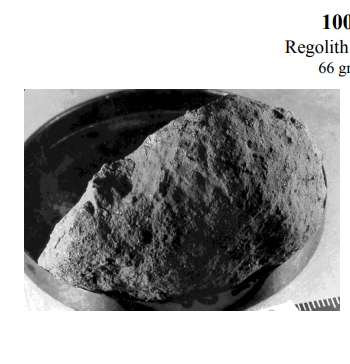Breccia: (34, 91, 333, 295)
